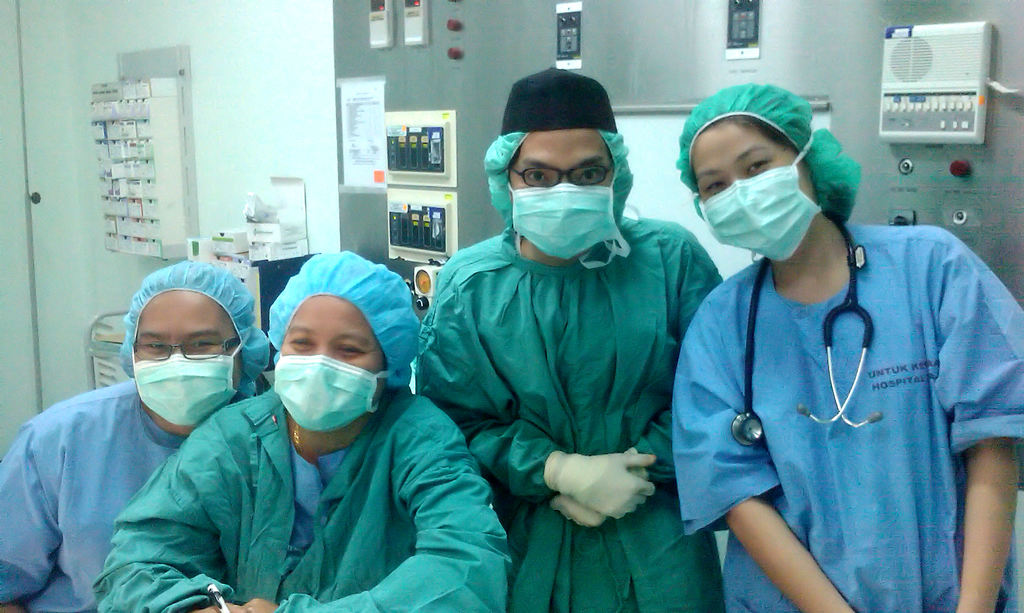Person: (673, 80, 1024, 613), (415, 70, 726, 613), (89, 247, 515, 613), (0, 257, 274, 613)
